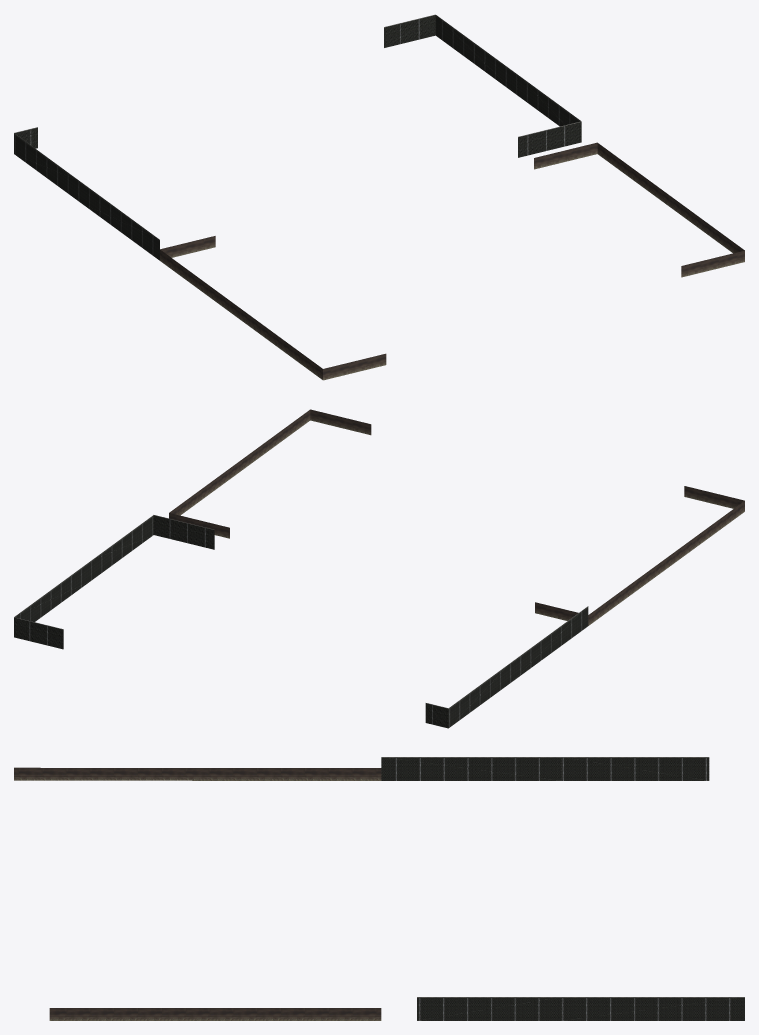
Rendered from barriotrans01_lae.obj.
The picture shows the model from 3 angles, top to bottom: view 1: azimuth 30°, elevation 25°; view 2: azimuth 150°, elevation 25°; view 3: azimuth 270°, elevation 25°; orthographic projection. The views are drawn at different scales.
Parts seen in each view (by area): view 1: barrioTrans01_LAe; view 2: barrioTrans01_LAe; view 3: barrioTrans01_LAe.
Part boxes in pixels (x1,y1,x2,y2): barrioTrans01_LAe: (14, 14, 744, 380); barrioTrans01_LAe: (14, 409, 744, 728); barrioTrans01_LAe: (14, 757, 744, 1020).
Bounding box in the file's own units: 47.66 × 2.2 × 61.33.
